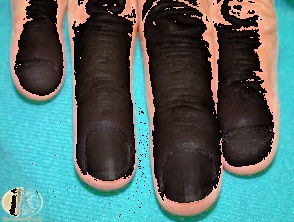Nail_psoriasis: (153, 132, 226, 217), (76, 115, 137, 187), (218, 112, 279, 167), (11, 48, 65, 91)
